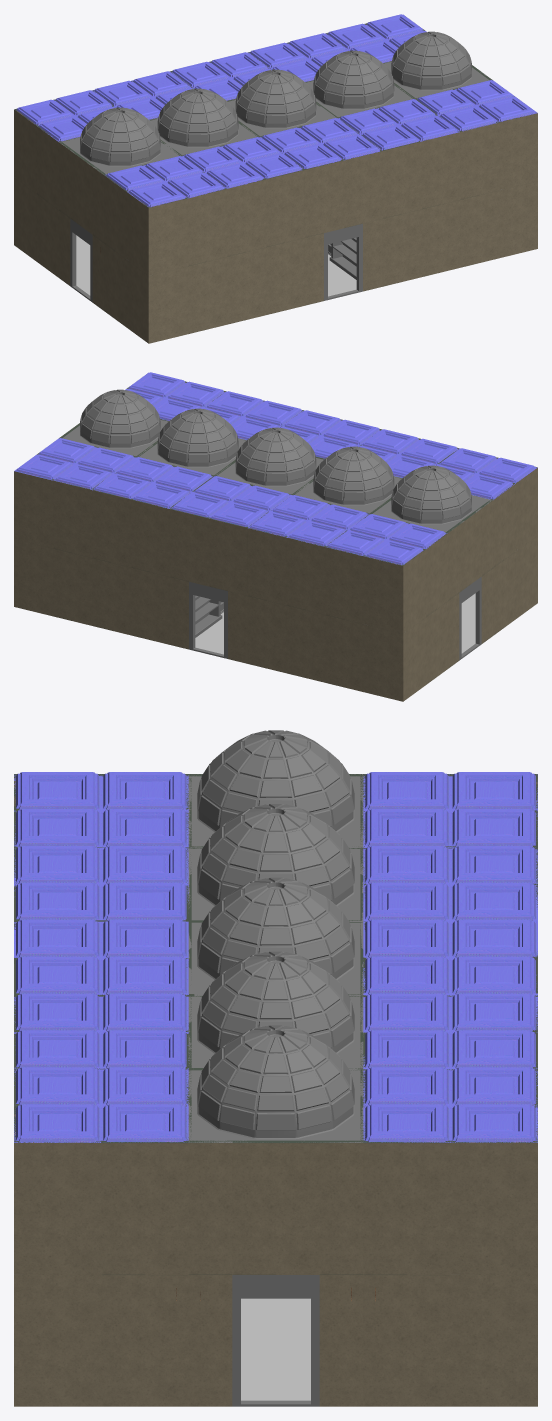
The model's file is Library.fbx.
3 views of the same model, one above another, from view 1: azimuth 30°, elevation 25°; view 2: azimuth 150°, elevation 25°; view 3: azimuth 270°, elevation 25° (orthographic). The views are drawn at different scales.
Visible parts, largest first — view 1: ST_CornerWall_Half_01__7_, ST_CornerWall_Half_01__6_, ST_StraightWall_Full_01__46_, ST_StraightWall_Full_01__40_, ST_StraightWall_Full_01__44_, ST_StraightWall_Full_01__50_, ST_StraightWall_Full_01__48_, ST_StraightWall_Full_01__42_, ST_StraightWall_Full_01__47_, ST_StraightWall_Full_01__39_, ST_StraightWall_Full_01__49_, ST_StraightWall_Full_01__45_ (+74 smaller); view 2: ST_CornerWall_Half_01__5_, ST_CornerWall_Half_01__4_, ST_StraightWall_Full_01__18_, ST_StraightWall_Full_01__31_, ST_StraightWall_Full_01__51_, ST_StraightWall_Full_01__16_, ST_StraightWall_Full_01__55_, ST_StraightWall_Full_01__53_, ST_StraightWall_Full_01__52_, ST_StraightWall_Full_01__15_, ST_StraightWall_Full_01__54_, ST_StraightWall_Full_01__38_ (+74 smaller); view 3: ST_StraightWall_Full_01__8_, ST_CornerWall_Half_01__3_, ST_CornerWall_Half_01__2_, ST_StraightWall_Full_01__23_, ST_StraightWall_Full_01__20_, ST_StraightWall_Full_01__9_, ST_StraightWall_Full_01__12_, ST_CornerWall_Half_01, ST_CornerWall_Half_01__1_, ST_Roof_Dome_Quarter_01, ST_Roof_Dome_Quarter_01__1_, ST_StraightWall_Full_01__5_ (+64 smaller).
Boxes of the visible parts, left/top/right/bottom form: ST_CornerWall_Half_01__7_: left=126, top=191, right=187, bottom=275; ST_CornerWall_Half_01__6_: left=126, top=260, right=187, bottom=343; ST_StraightWall_Full_01__46_: left=264, top=169, right=304, bottom=247; ST_StraightWall_Full_01__40_: left=381, top=140, right=421, bottom=218; ST_StraightWall_Full_01__44_: left=303, top=159, right=343, bottom=237; ST_StraightWall_Full_01__50_: left=186, top=188, right=226, bottom=266; ST_StraightWall_Full_01__48_: left=226, top=178, right=265, bottom=256; ST_StraightWall_Full_01__42_: left=342, top=150, right=382, bottom=228; ST_StraightWall_Full_01__47_: left=226, top=247, right=265, bottom=324; ST_StraightWall_Full_01__39_: left=382, top=209, right=421, bottom=286; ST_StraightWall_Full_01__49_: left=187, top=257, right=226, bottom=334; ST_StraightWall_Full_01__45_: left=265, top=238, right=304, bottom=314; ST_CornerWall_Half_01__5_: left=364, top=549, right=425, bottom=633; ST_CornerWall_Half_01__4_: left=364, top=618, right=425, bottom=701; ST_StraightWall_Full_01__18_: left=169, top=508, right=209, bottom=586; ST_StraightWall_Full_01__31_: left=208, top=517, right=248, bottom=595; ST_StraightWall_Full_01__51_: left=247, top=527, right=287, bottom=605; ST_StraightWall_Full_01__16_: left=130, top=498, right=170, bottom=576; ST_StraightWall_Full_01__55_: left=325, top=546, right=365, bottom=624; ST_StraightWall_Full_01__53_: left=286, top=537, right=326, bottom=614; ST_StraightWall_Full_01__52_: left=286, top=605, right=325, bottom=682; ST_StraightWall_Full_01__15_: left=130, top=567, right=169, bottom=644; ST_StraightWall_Full_01__54_: left=325, top=615, right=364, bottom=692; ST_StraightWall_Full_01__38_: left=247, top=596, right=286, bottom=672; ST_StraightWall_Full_01__8_: left=232, top=1140, right=319, bottom=1274; ST_CornerWall_Half_01__3_: left=14, top=1106, right=101, bottom=1274; ST_CornerWall_Half_01__2_: left=450, top=1106, right=537, bottom=1274; ST_StraightWall_Full_01__23_: left=101, top=1140, right=188, bottom=1274; ST_StraightWall_Full_01__20_: left=363, top=1140, right=450, bottom=1274; ST_StraightWall_Full_01__9_: left=363, top=1275, right=450, bottom=1406; ST_StraightWall_Full_01__12_: left=101, top=1275, right=188, bottom=1406; ST_CornerWall_Half_01: left=450, top=1275, right=537, bottom=1406; ST_CornerWall_Half_01__1_: left=14, top=1275, right=101, bottom=1406; ST_Roof_Dome_Quarter_01: left=188, top=1033, right=275, bottom=1142; ST_Roof_Dome_Quarter_01__1_: left=276, top=1033, right=363, bottom=1142; ST_StraightWall_Full_01__5_: left=319, top=1140, right=363, bottom=1274.
Size of the model in its own units: 1500 by 639 by 900.
